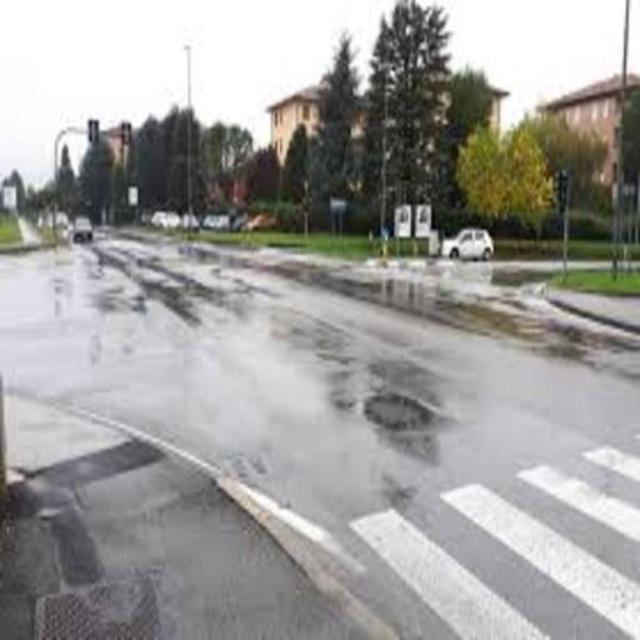sidewalk: (349, 433, 640, 640)
